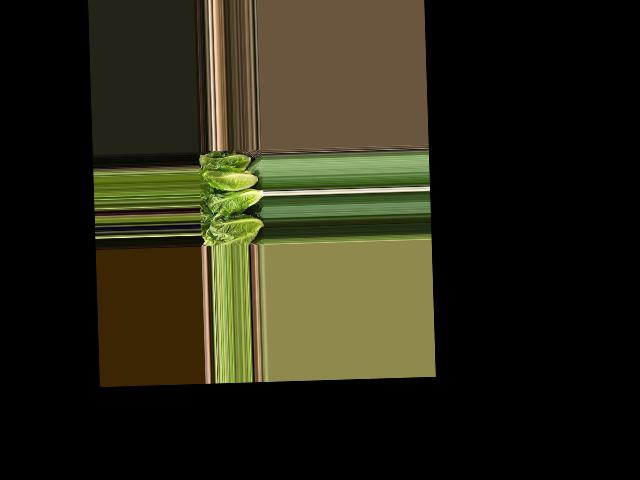lettuce: (198, 154, 249, 170)
